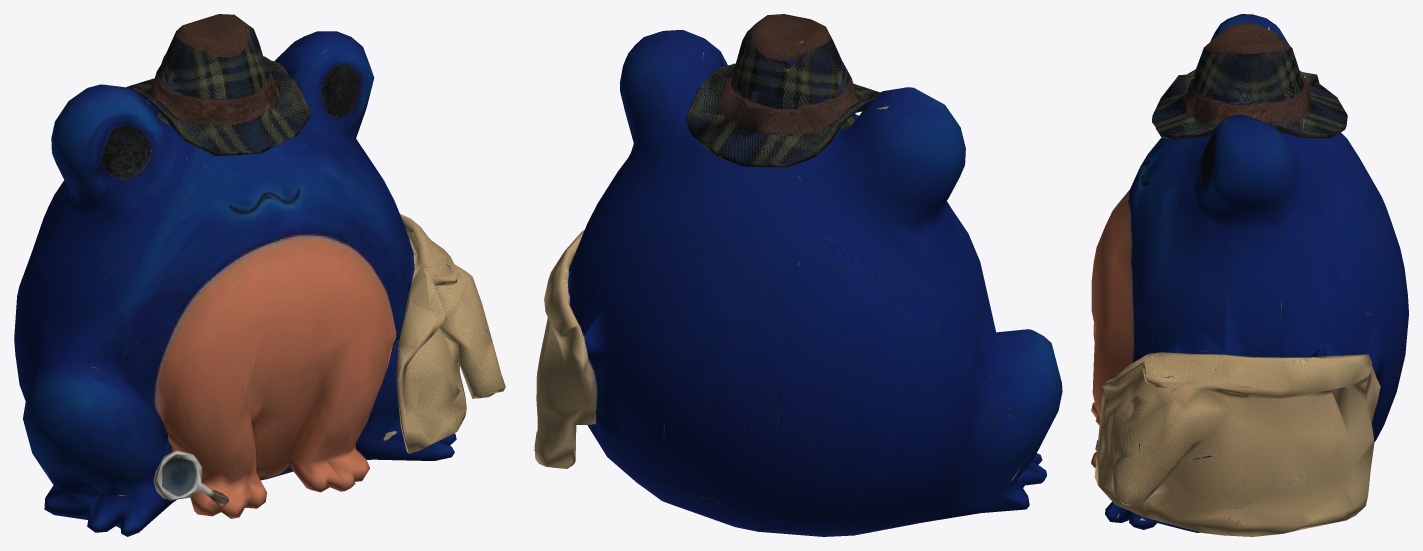
Rendered from detective.glb.
3 views of the same model, side by side, from view 1: azimuth 30°, elevation 25°; view 2: azimuth 150°, elevation 25°; view 3: azimuth 270°, elevation 25° (orthographic). The views are drawn at different scales.
Visible parts, largest first — view 1: mesh_node; view 2: mesh_node; view 3: mesh_node.
Boxes of the visible parts, box(x1,y1,x2,y2) form: mesh_node: box(14, 14, 505, 536); mesh_node: box(534, 14, 1062, 536); mesh_node: box(1091, 14, 1408, 536).
Bounding box in the file's own units: 1.9 × 1.74 × 1.22.
Materials: 1 (1 with a texture image).
